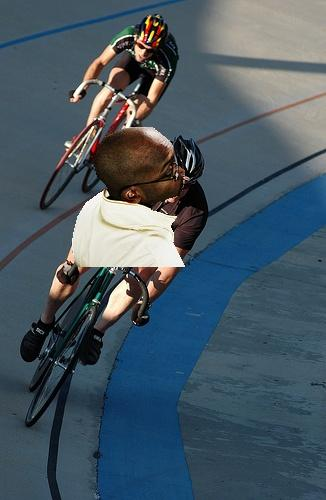tampered: (73, 128, 185, 267)
